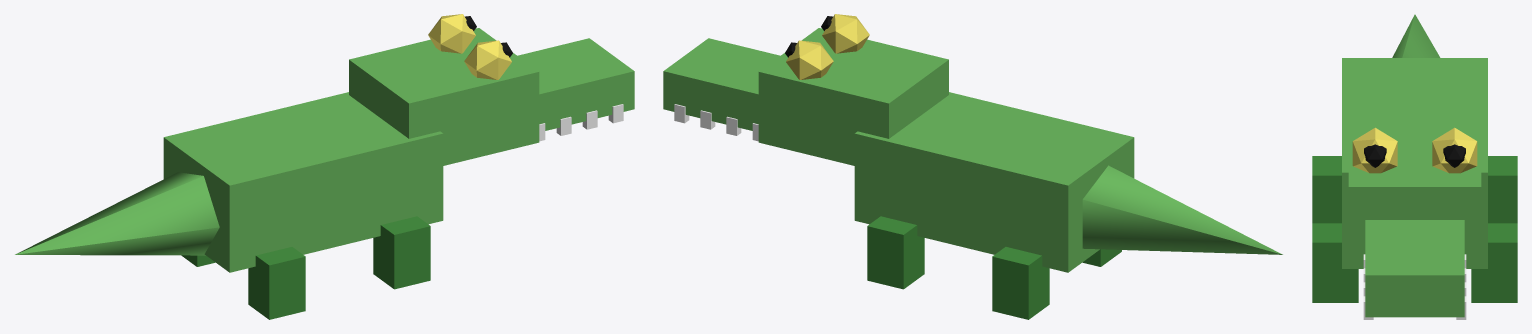
The model's file is level1.glb.
3 views of the same model, side by side, from view 1: azimuth 30°, elevation 25°; view 2: azimuth 150°, elevation 25°; view 3: azimuth 270°, elevation 25° (orthographic). The views are drawn at different scales.
Size of the model in its own units: 1.15 by 0.359 by 0.31.
